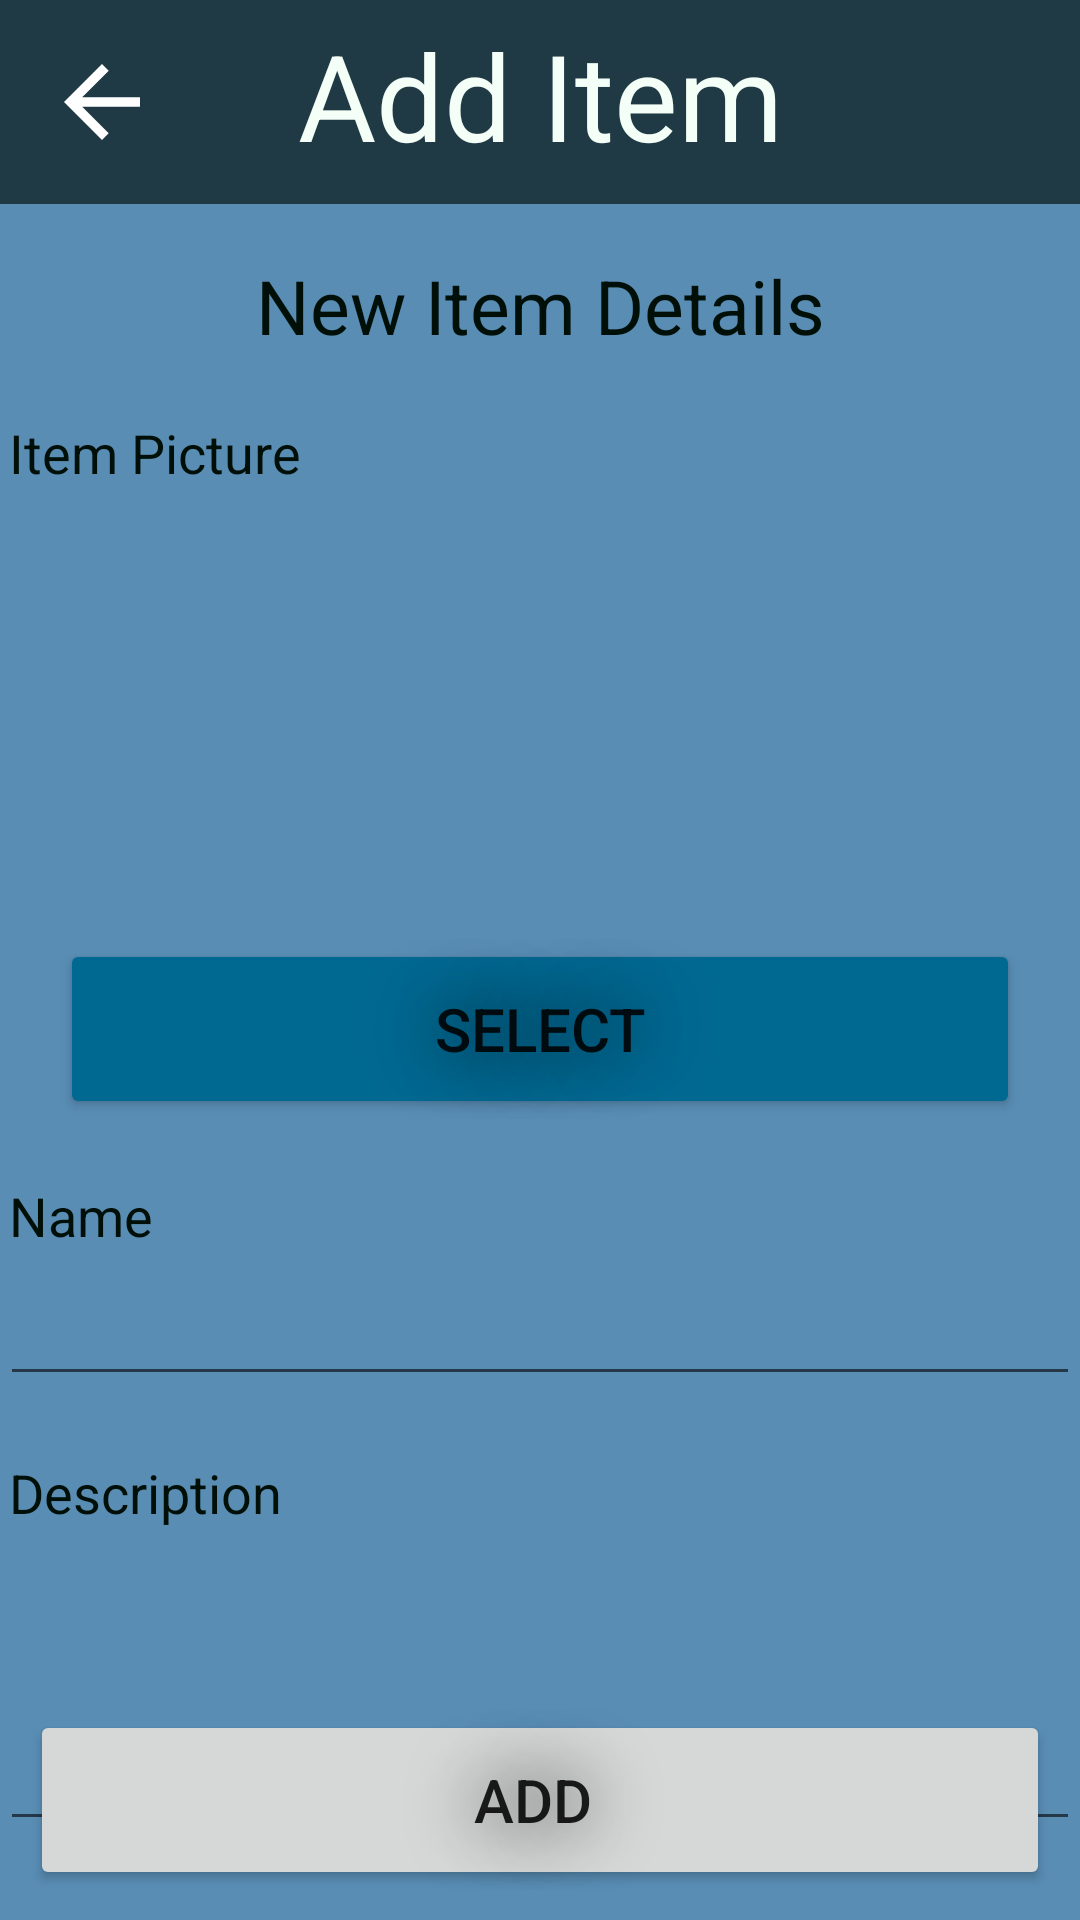

Named icons in this screenshot (1080x1920) and their centers, [x,y]:
arrow: [102,102]
